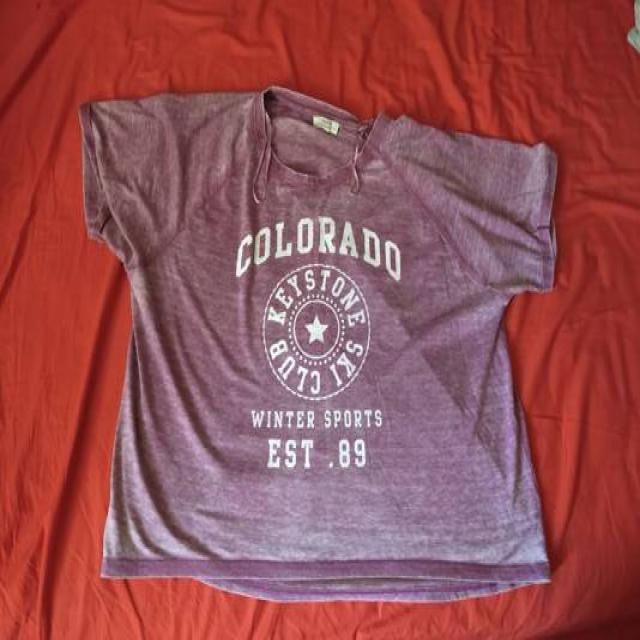Clothes -Biodegradable-: (76, 80, 555, 606)
